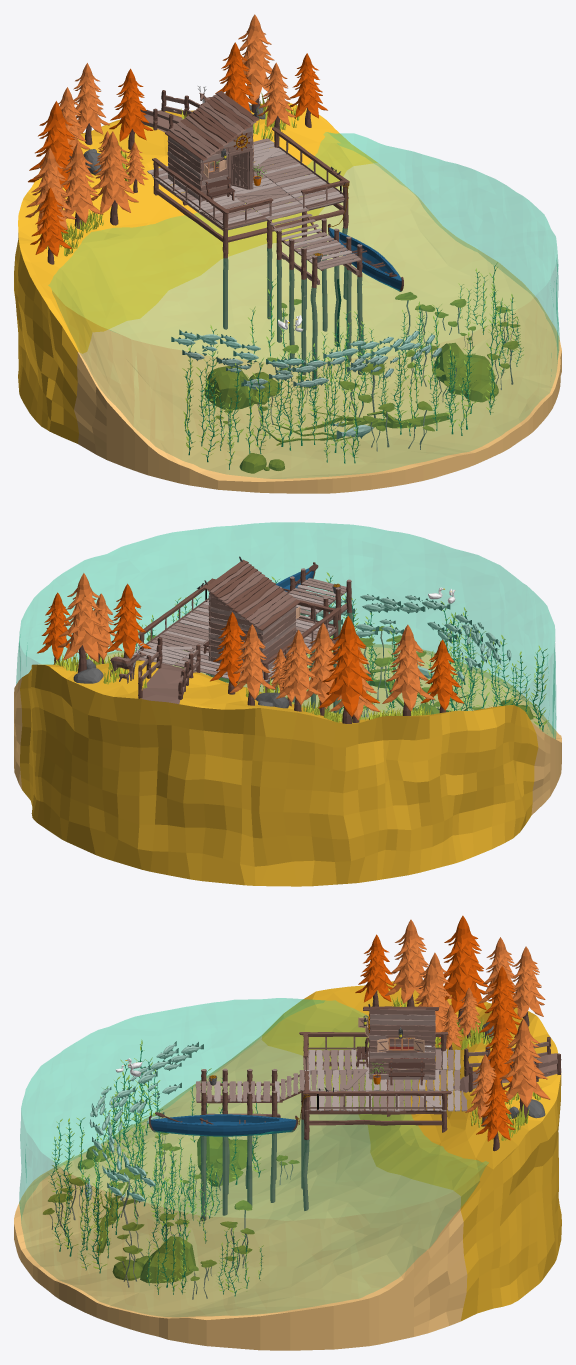
Rendered from lowpoly_lake.glb.
The picture shows the model from 3 angles, top to bottom: view 1: azimuth 30°, elevation 25°; view 2: azimuth 150°, elevation 25°; view 3: azimuth 270°, elevation 25°; orthographic projection. The views are drawn at different scales.
Parts seen in each view (by area): view 1: Cube.003_Material.007_0, WATER_Water.001_0, Cube.029_Material.008_0, Tree.002_Tree_0, Grass_Grass_0; view 2: Cube.003_Material.007_0, WATER_Water.001_0, Tree.002_Tree_0, Cube.029_Material.008_0, Grass_Grass_0, Icosphere.003_Rock_0; view 3: Cube.003_Material.007_0, WATER_Water.001_0, Cube.029_Material.008_0, Tree.002_Tree_0, Grass_Grass_0.
Boxes of the visible parts, x1,y1,x2,y2 form: Cube.003_Material.007_0: (14,86,561,493); WATER_Water.001_0: (48,132,559,478); Cube.029_Material.008_0: (140,90,523,473); Tree.002_Tree_0: (25,14,327,264); Grass_Grass_0: (46,92,299,256); Cube.003_Material.007_0: (14,559,561,886); WATER_Water.001_0: (16,522,556,739); Tree.002_Tree_0: (37,573,464,723); Cube.029_Material.008_0: (131,562,548,731); Grass_Grass_0: (54,652,431,722); Icosphere.003_Rock_0: (73,659,288,708); Cube.003_Material.007_0: (14,981,561,1350); WATER_Water.001_0: (19,998,488,1316); Cube.029_Material.008_0: (43,1015,561,1299); Tree.002_Tree_0: (355,915,550,1151); Grass_Grass_0: (392,995,541,1140).
Size of the model in its own units: 25.36 by 13.35 by 25.63.
6 materials, 2 textured.
